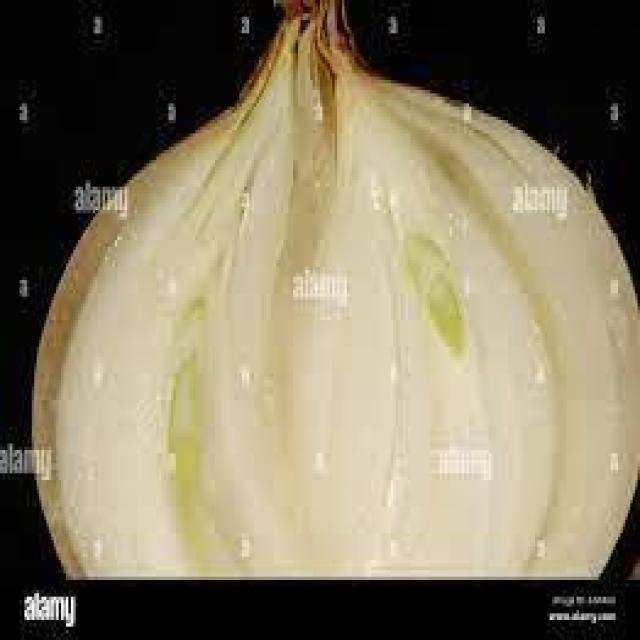Onion: (34, 6, 638, 596)
